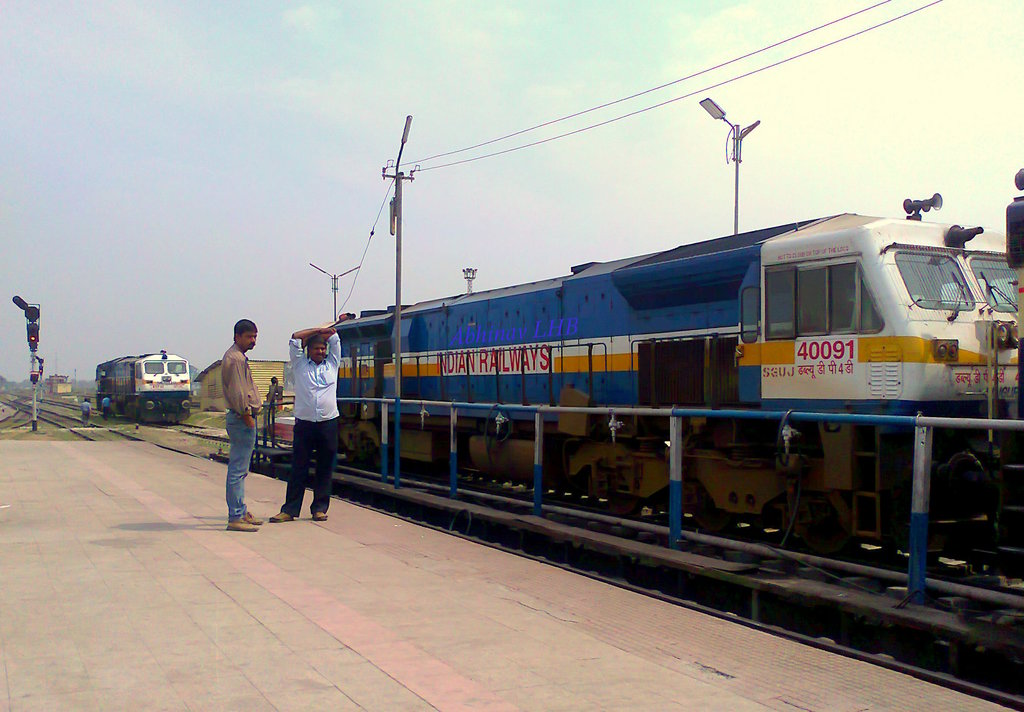train: (96, 346, 195, 430)
